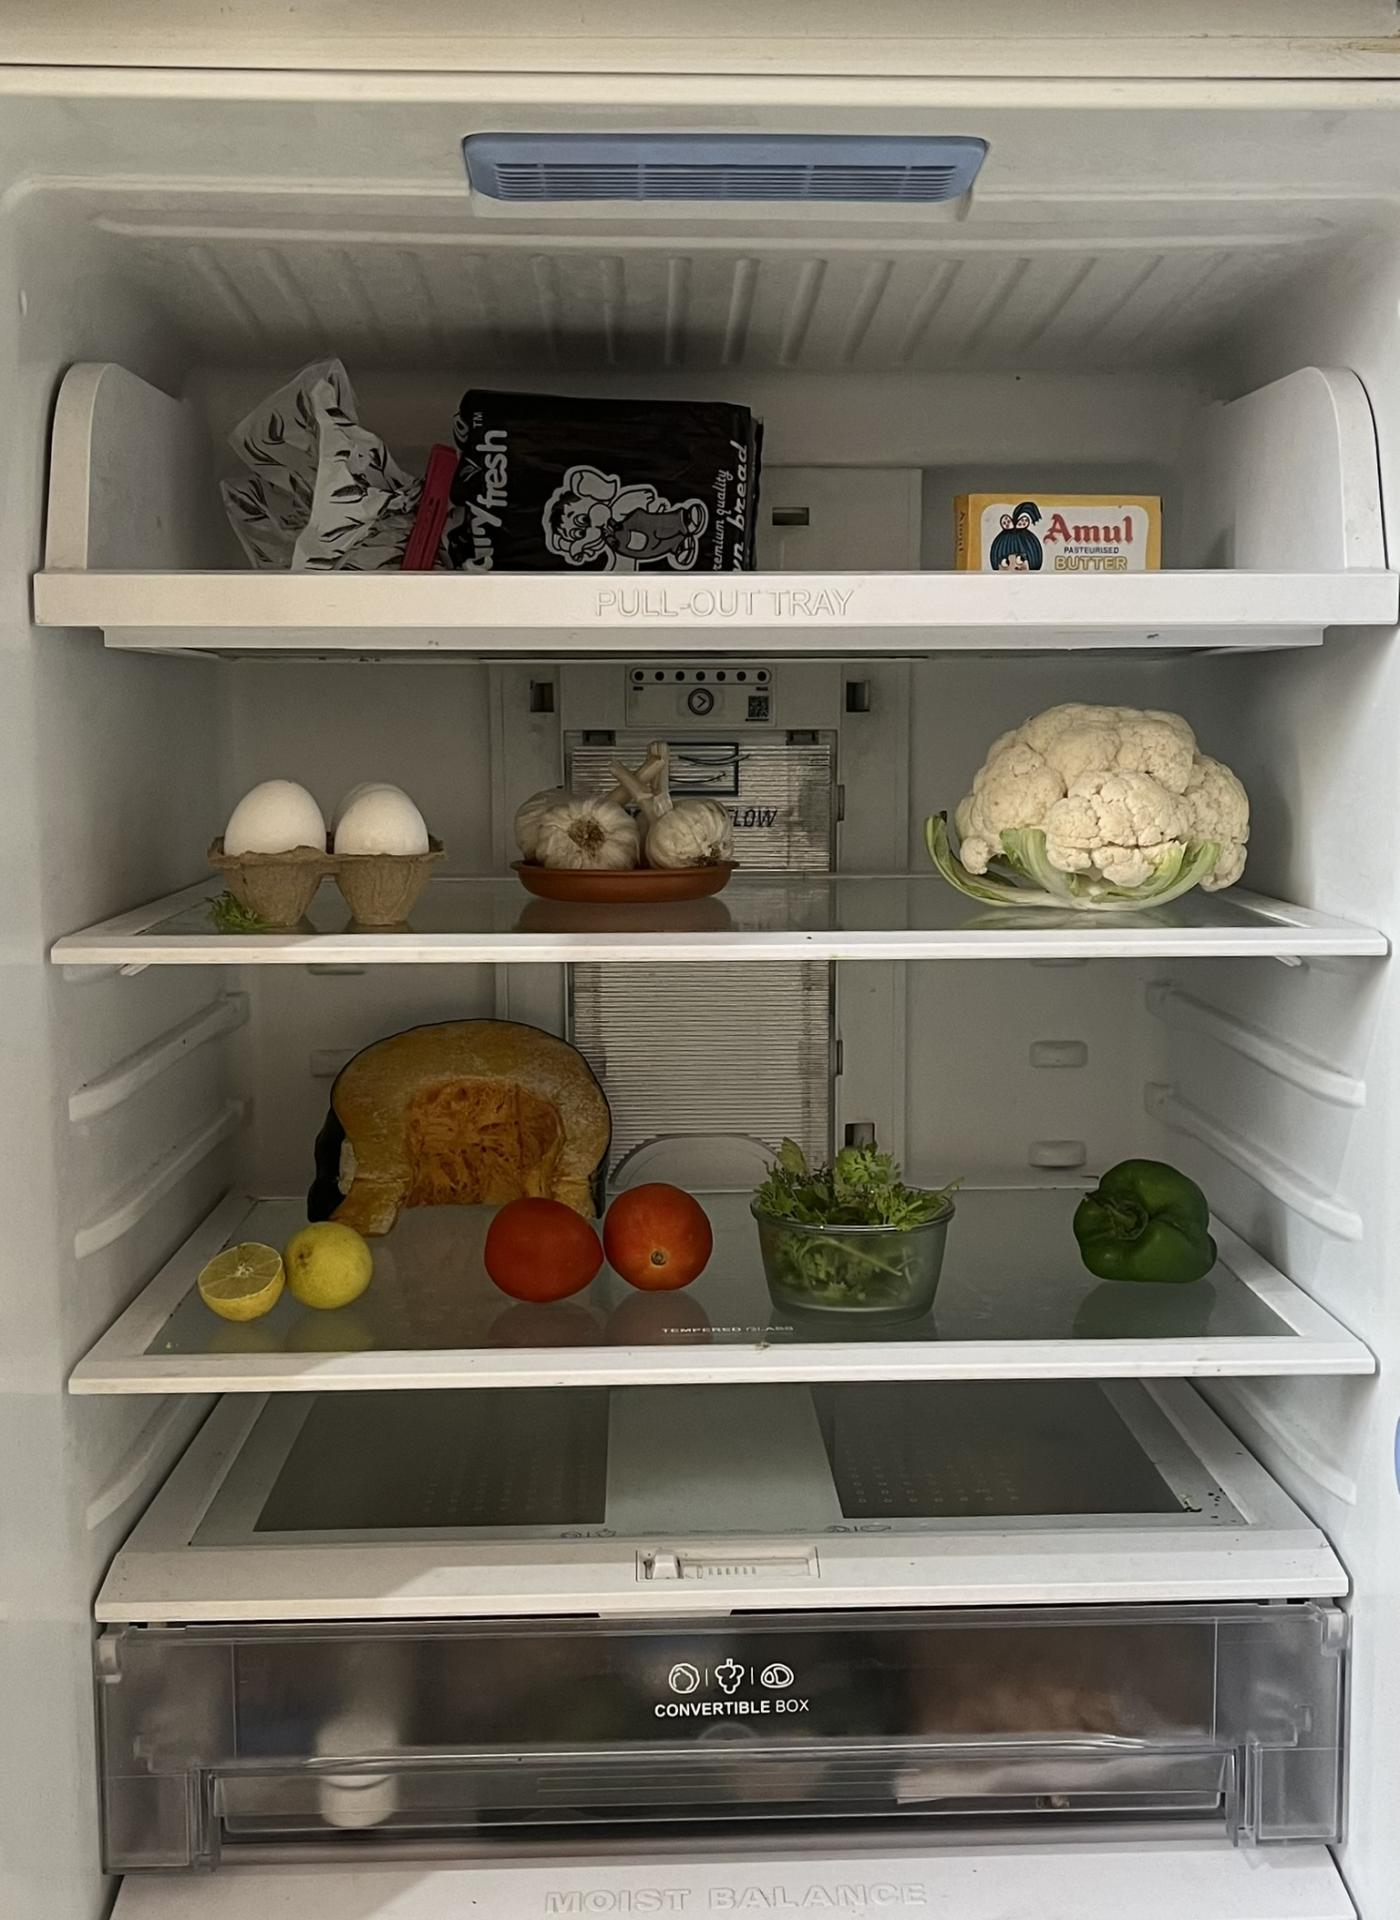bread: (213, 388, 762, 572)
butter: (948, 490, 1167, 575)
capsicum: (1075, 1160, 1215, 1282)
cauliflower: (945, 701, 1246, 903)
coriander: (768, 1131, 938, 1309)
egg: (222, 772, 434, 932)
garlic: (513, 750, 717, 872)
lemon: (191, 1225, 371, 1319)
pumpkin: (316, 1015, 608, 1225)
tomato: (483, 1191, 717, 1294)
